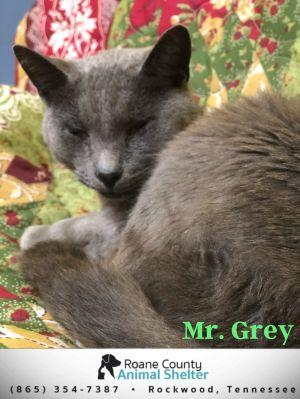rblue: (1, 1, 208, 205)
